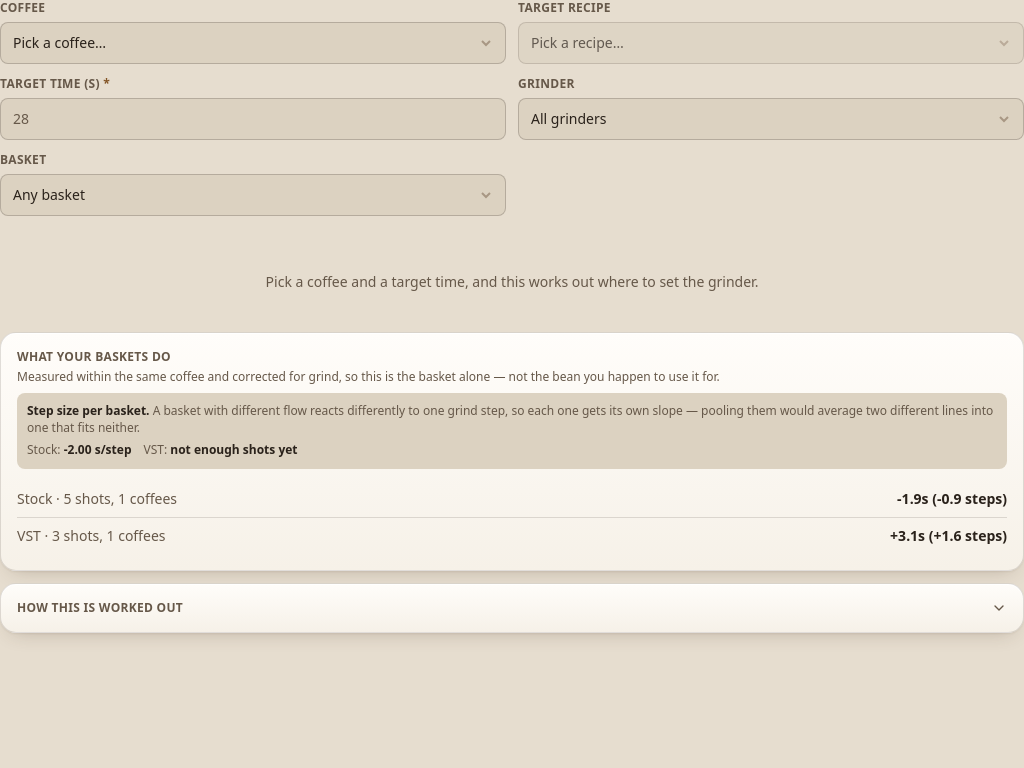
Test: works out a grind setting for the chosen target
Select "Bean / R" in the dropdown labelled "Coffee" at (253, 43), box [0, 22, 506, 64]
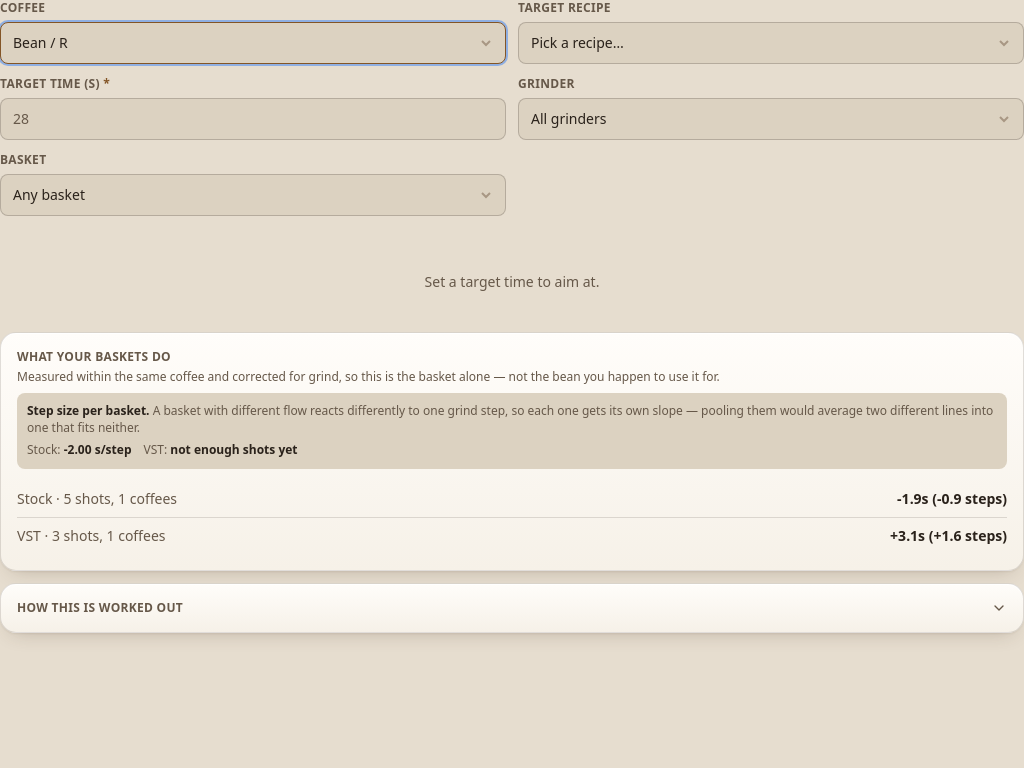
Select "My standard" in the dropdown labelled "Target recipe" at (771, 43), box [518, 22, 1023, 64]
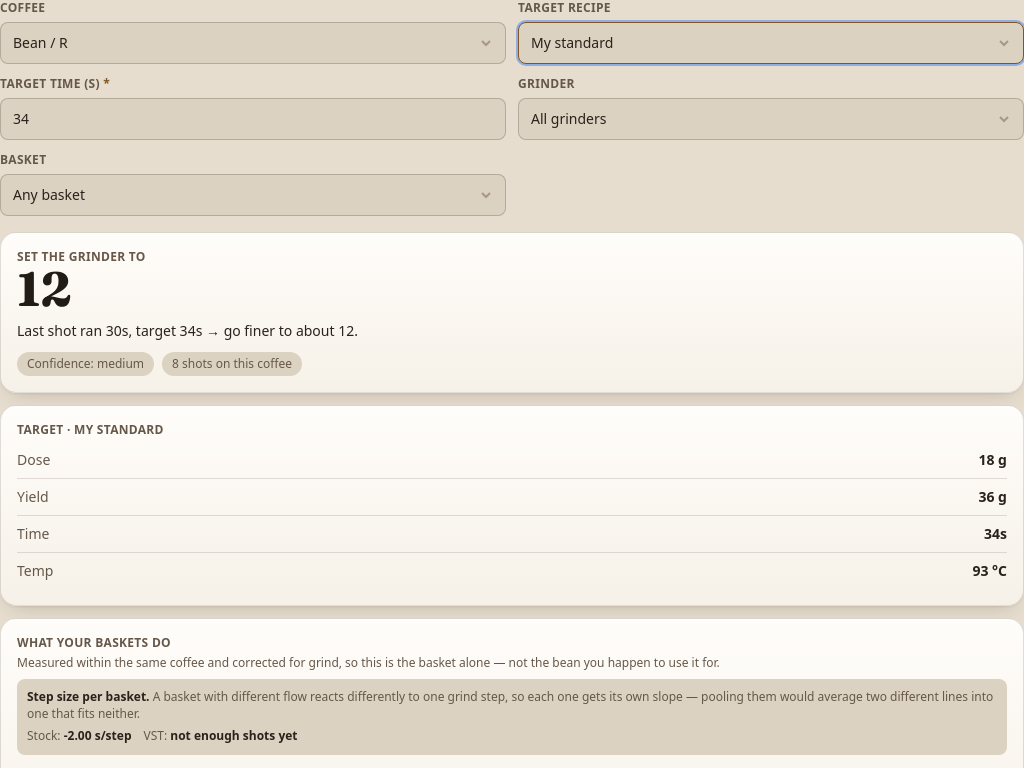
expect the text "12" is shown: met, box [17, 259, 71, 318]
